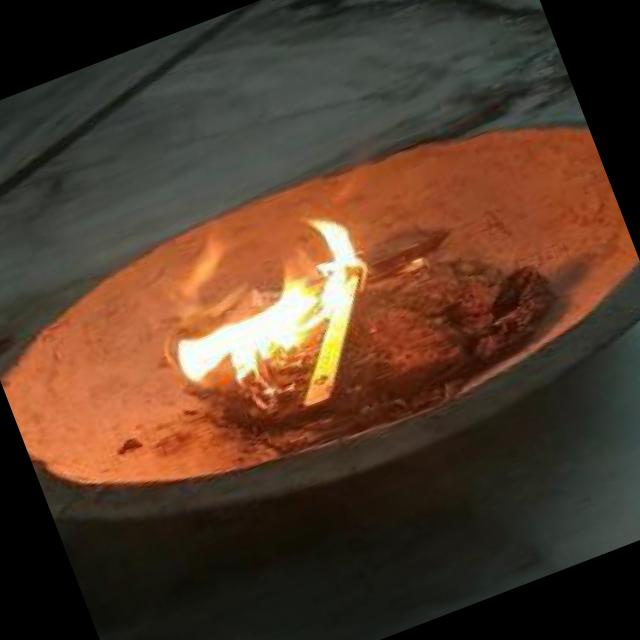fire: (94, 164, 415, 415)
